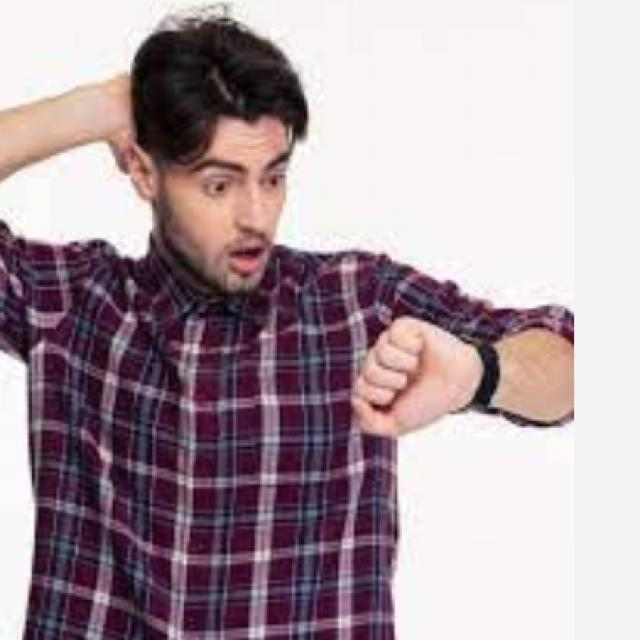Watch: (468, 336, 498, 416)
